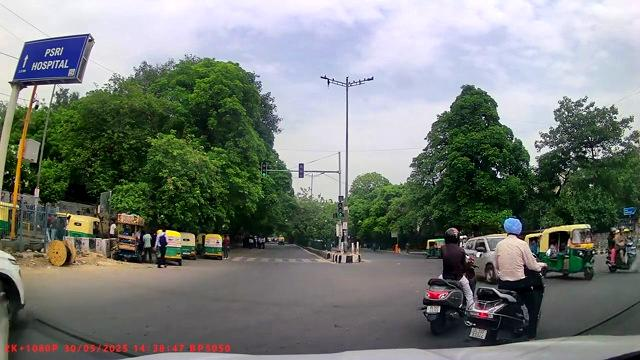motorcycle_with_helmet: (467, 216, 547, 344), (422, 226, 474, 335)
